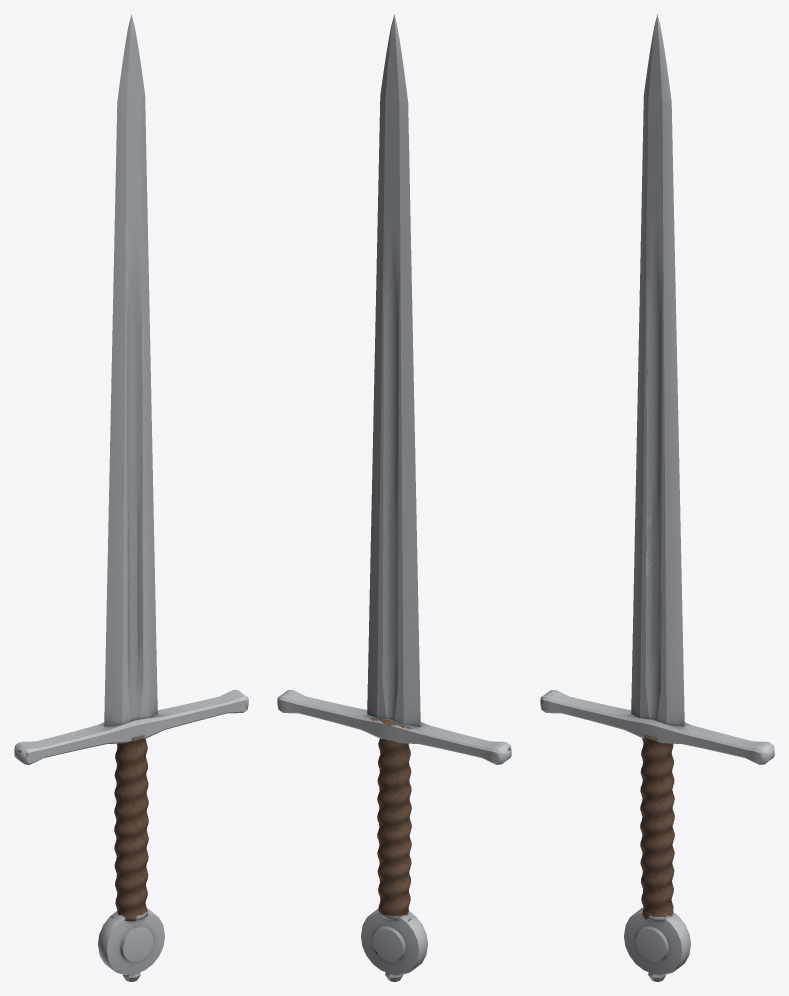
File: silvered-longsword.glb
3 views of the same model, side by side, from view 1: azimuth 30°, elevation 25°; view 2: azimuth 150°, elevation 25°; view 3: azimuth 330°, elevation 25° (orthographic).
Parts seen in each view (by area): view 1: silvered-longsword; view 2: silvered-longsword; view 3: silvered-longsword.
Boxes of the visible parts, x1,y1,x2,y2 form: silvered-longsword: (14, 14, 248, 981); silvered-longsword: (277, 14, 511, 981); silvered-longsword: (540, 14, 774, 981).
Size of the model in its own units: 0.6 by 2.41 by 0.0674.
Materials: 1 (1 with a texture image).
